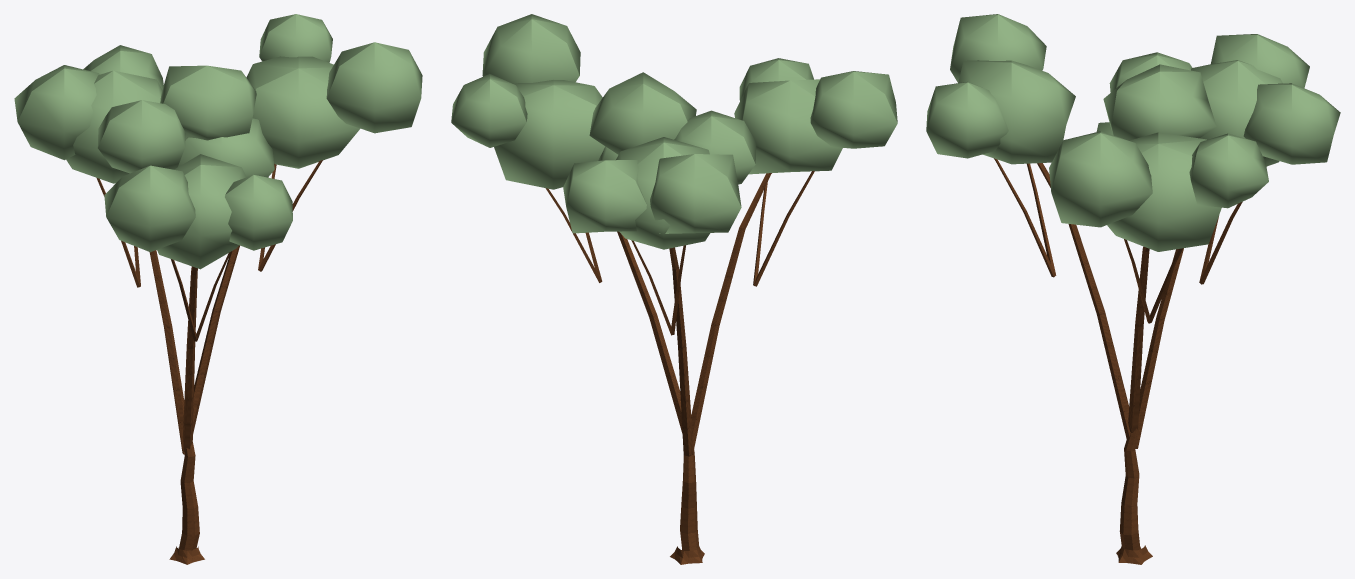
Rendered from oak-young.glb.
The picture shows the model from 3 angles, left to right: view 1: azimuth 30°, elevation 25°; view 2: azimuth 150°, elevation 25°; view 3: azimuth 270°, elevation 25°; orthographic projection. The views are drawn at different scales.
Visible parts, largest first — view 1: oak-young; view 2: oak-young; view 3: oak-young.
Boxes of the visible parts, bbox=[...] form: oak-young: bbox=[14, 14, 422, 564]; oak-young: bbox=[451, 14, 897, 564]; oak-young: bbox=[926, 14, 1340, 564].
Size of the model in its own units: 4.46 by 5.66 by 4.14.
Materials: 2 (1 with a texture image).
